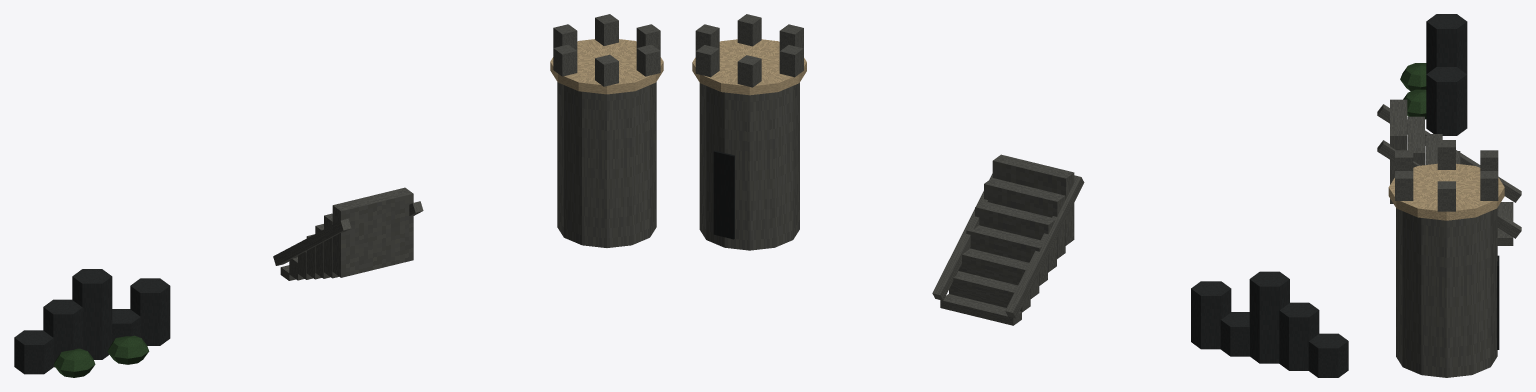
File: KIT_stormspire.gltf
The picture shows the model from 3 angles, left to right: view 1: azimuth 30°, elevation 25°; view 2: azimuth 150°, elevation 25°; view 3: azimuth 270°, elevation 25°; orthographic projection. The views are drawn at different scales.
Visible parts, largest first — view 1: 03_tower, 01_cliff, 02_stairs; view 2: 03_tower, 02_stairs, 01_cliff; view 3: 03_tower, 01_cliff, 02_stairs.
Boxes of the visible parts, <box> form: 03_tower: <box>550,14,663,247</box>; 01_cliff: <box>14,269,170,377</box>; 02_stairs: <box>273,187,423,280</box>; 03_tower: <box>692,14,806,250</box>; 02_stairs: <box>932,154,1084,325</box>; 01_cliff: <box>1191,271,1348,377</box>; 03_tower: <box>1388,140,1504,377</box>; 01_cliff: <box>1400,14,1467,135</box>; 02_stairs: <box>1377,99,1521,245</box>.
Size of the model in its own units: 13.61 by 3.96 by 2.61.
Materials: 5 (5 with a texture image).
